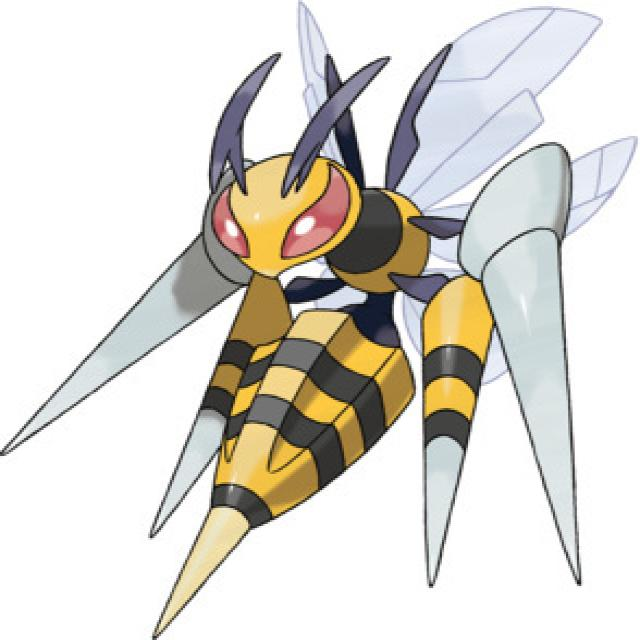Beedrill: (109, 28, 602, 627)
